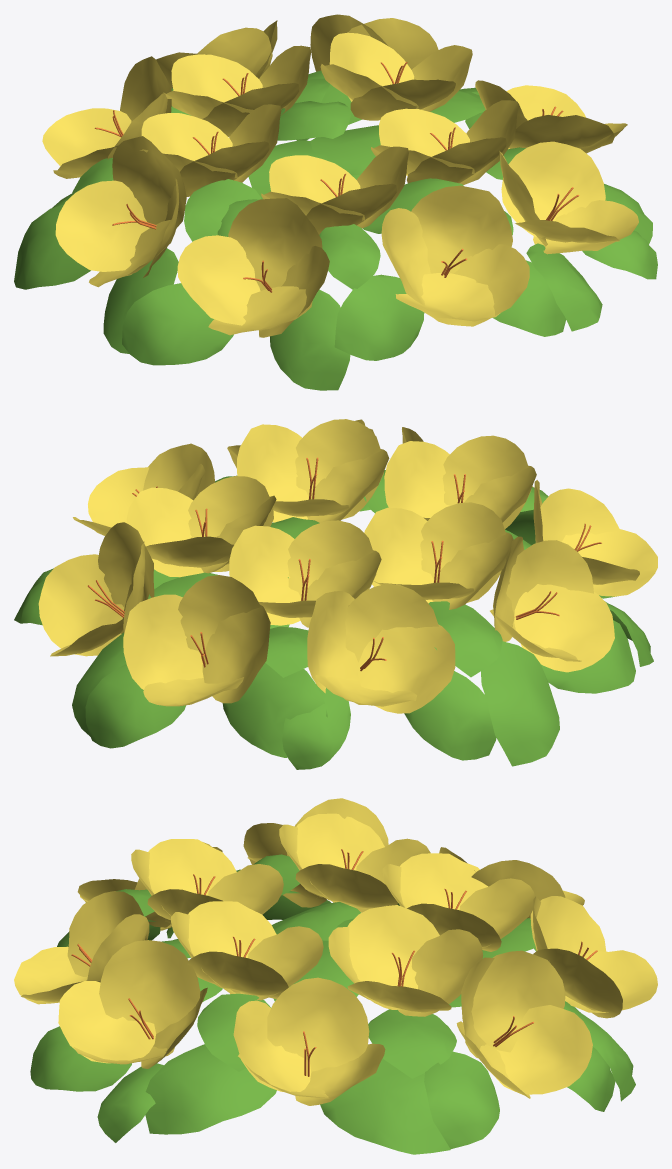
Rendered from yellowFlower.fbx.
3 renders of one model, top to bottom at view 1: azimuth 30°, elevation 25°; view 2: azimuth 150°, elevation 25°; view 3: azimuth 270°, elevation 25°, orthographic.
Visible parts, largest first — view 1: petal7, petal8, petal9, petal6, petal13, petal17, petal16, petal14, petal15, petal10, leaf11, leaf13 (+20 smaller); view 2: petal10, petal11, petal9, petal17, petal15, petal14, petal12, petal13, petal16, petal8, leaf9, petal5 (+13 smaller); view 3: petal12, petal5, petal6, petal13, petal17, petal11, petal14, petal15, petal16, petal7, leaf, leaf2 (+15 smaller).
Part boxes in pixels (left/top/right/bottom): petal7: left=381, top=185, right=529, bottom=326; petal8: left=177, top=198, right=329, bottom=337; petal9: left=55, top=136, right=186, bottom=287; petal6: left=499, top=141, right=638, bottom=254; petal13: left=320, top=32, right=472, bottom=120; petal17: left=371, top=100, right=518, bottom=185; petal16: left=261, top=146, right=408, bottom=234; petal14: left=163, top=45, right=311, bottom=136; petal15: left=140, top=104, right=281, bottom=196; petal10: left=42, top=56, right=171, bottom=178; leaf11: left=122, top=283, right=233, bottom=365; leaf13: left=334, top=274, right=424, bottom=360; petal10: left=307, top=583, right=455, bottom=713; petal11: left=123, top=575, right=270, bottom=706; petal9: left=490, top=536, right=614, bottom=672; petal17: left=237, top=419, right=389, bottom=522; petal15: left=364, top=502, right=513, bottom=609; petal14: left=229, top=520, right=381, bottom=627; petal12: left=38, top=522, right=154, bottom=656; petal13: left=126, top=476, right=276, bottom=577; petal16: left=384, top=435, right=536, bottom=529; petal8: left=533, top=480, right=657, bottom=596; leaf9: left=481, top=641, right=559, bottom=766; petal5: left=73, top=443, right=214, bottom=535; petal12: left=456, top=950, right=592, bottom=1098; petal5: left=233, top=977, right=385, bottom=1105; petal6: left=58, top=940, right=207, bottom=1068; petal13: left=328, top=905, right=483, bottom=1016; petal17: left=171, top=901, right=323, bottom=1000; petal11: left=530, top=896, right=657, bottom=1018; petal14: left=382, top=853, right=534, bottom=951; petal15: left=279, top=813, right=430, bottom=912; petal16: left=131, top=839, right=283, bottom=920; petal7: left=14, top=891, right=149, bottom=1004; leaf: left=145, top=1044, right=276, bottom=1134; leaf2: left=320, top=1058, right=450, bottom=1154.
Bounding box in the file's own units: 5.79 × 1.83 × 6.15.
